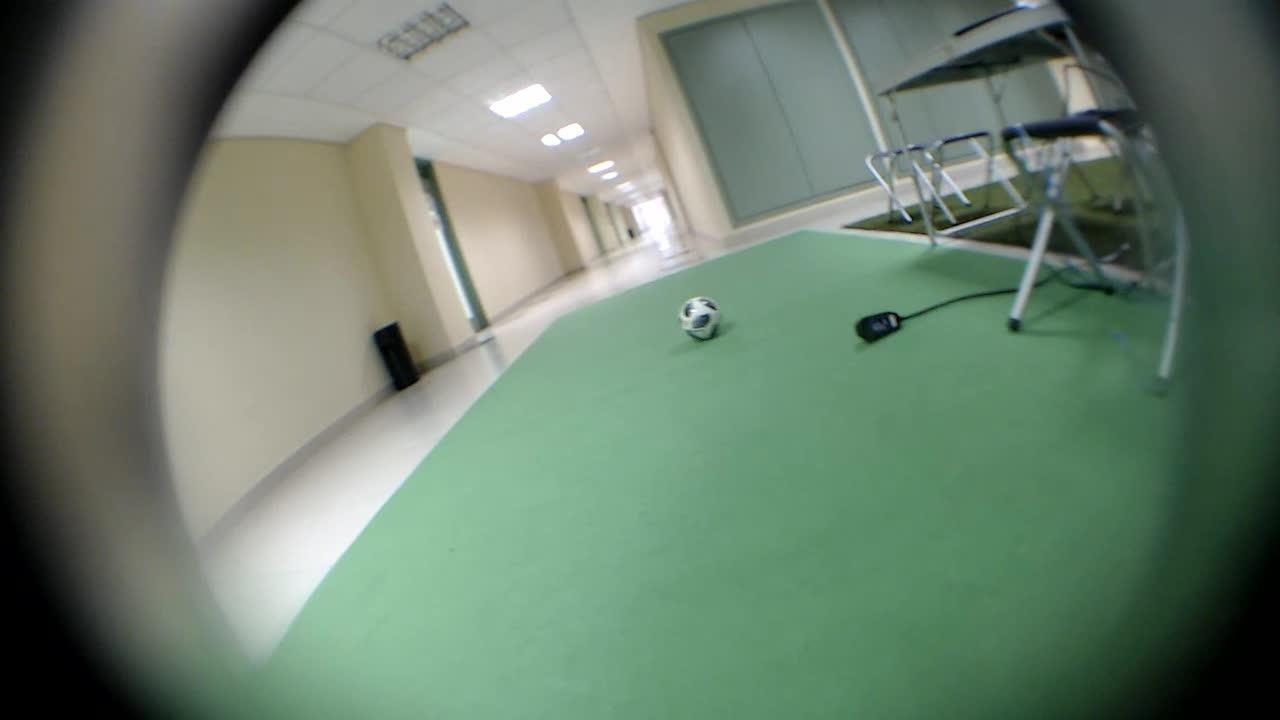ball: (670, 288, 719, 346)
